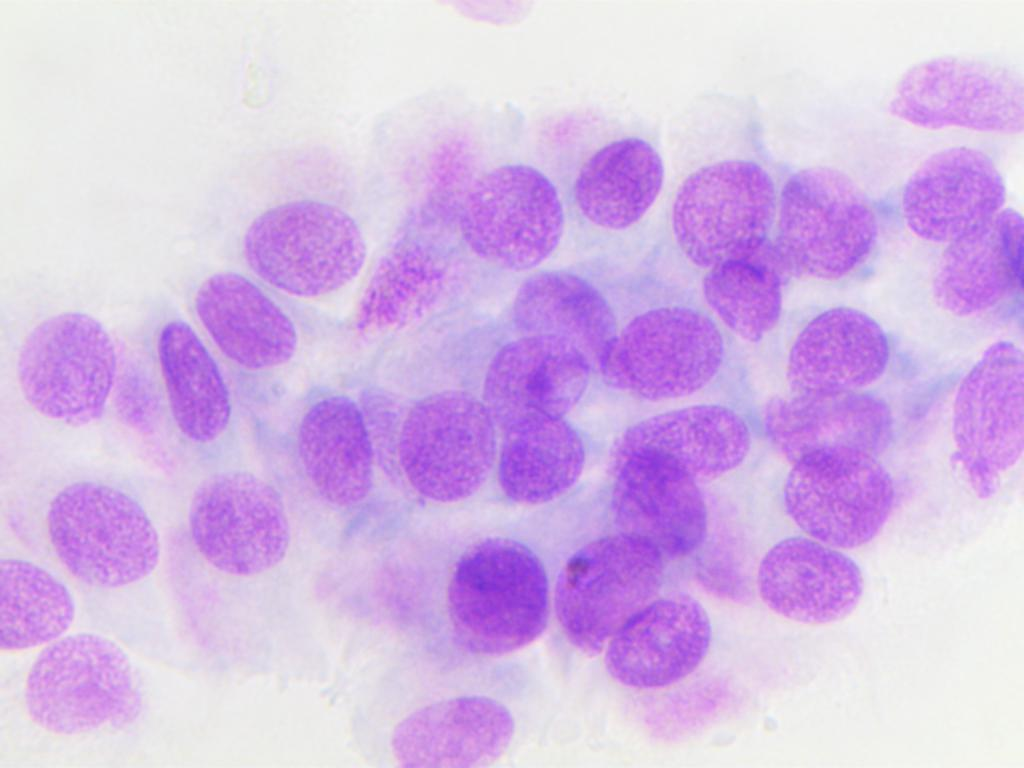epithelial: (8, 298, 161, 476), (227, 146, 379, 294), (910, 327, 1023, 498), (431, 529, 555, 681), (541, 532, 668, 658), (16, 627, 148, 745), (609, 286, 730, 406), (607, 391, 758, 487), (180, 466, 303, 581), (42, 472, 165, 587), (893, 139, 1023, 240), (449, 152, 563, 267), (667, 147, 780, 263), (768, 299, 897, 400), (745, 534, 874, 635), (495, 267, 613, 377), (783, 158, 886, 282), (887, 52, 1024, 142), (188, 260, 295, 374), (779, 448, 901, 547), (571, 116, 670, 237), (283, 390, 382, 511), (383, 682, 520, 768), (394, 384, 489, 507), (767, 384, 898, 471), (481, 324, 588, 430), (608, 587, 720, 688), (930, 200, 1024, 318), (350, 240, 452, 344), (607, 444, 704, 550), (489, 418, 592, 508), (156, 325, 228, 450), (701, 244, 779, 353), (0, 554, 76, 654)
